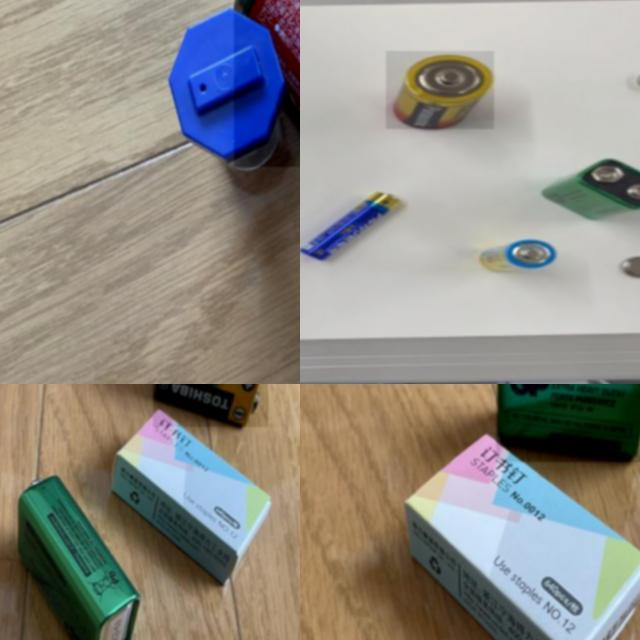9V: (18, 476, 140, 640), (496, 384, 640, 462), (539, 158, 640, 219), (153, 384, 268, 427)
